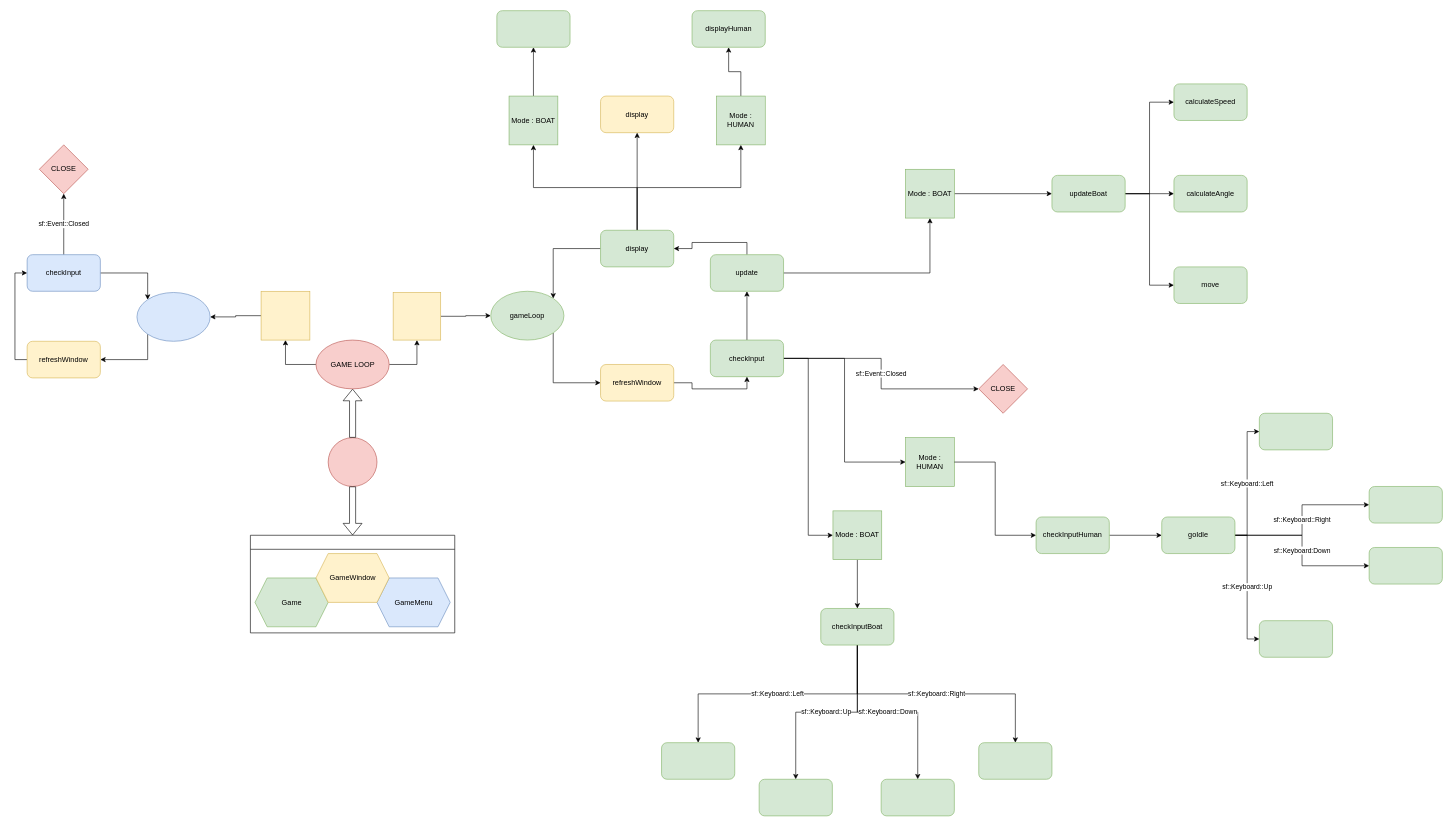
Some shapes in this 1453 by 827 pixel diagram are drawn without their labels. Here are the shapes that lost their labels. From the top down, the box of each, then its label:
(496, 10, 570, 47): displayBoat
(136, 292, 210, 341): gameMenuLoop
(260, 291, 310, 340): Status : MENU
(393, 292, 441, 340): Status : INGAME
(1259, 413, 1333, 450): goUp
(328, 437, 377, 486): MAIN
(1369, 486, 1442, 523): goRight
(250, 535, 455, 633): CLASSES CREATION
(1369, 547, 1442, 584): goDown
(1259, 620, 1333, 657): goLeft
(661, 742, 735, 779): turnLeft
(978, 742, 1052, 779): turnRight
(759, 779, 832, 816): upSails
(881, 779, 954, 816): downSails
